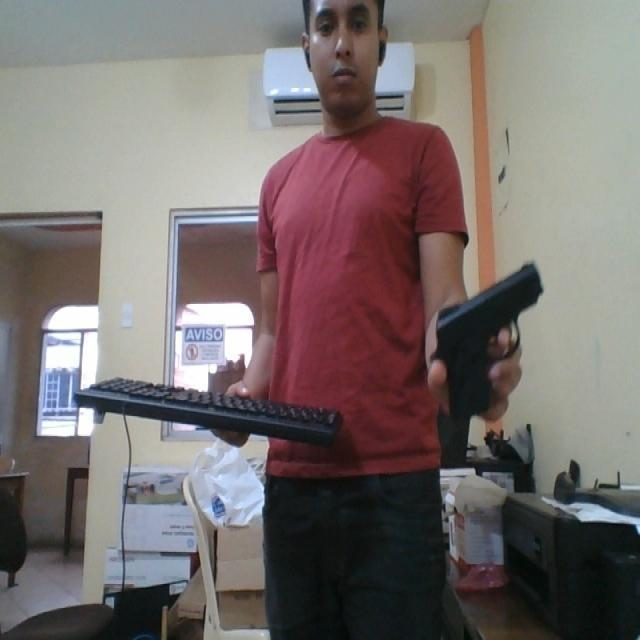weapon: (427, 258, 546, 424)
